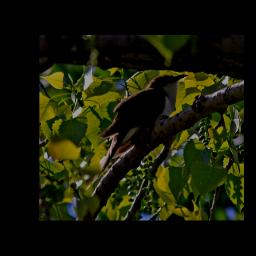Cuckoo: (96, 72, 188, 184)
